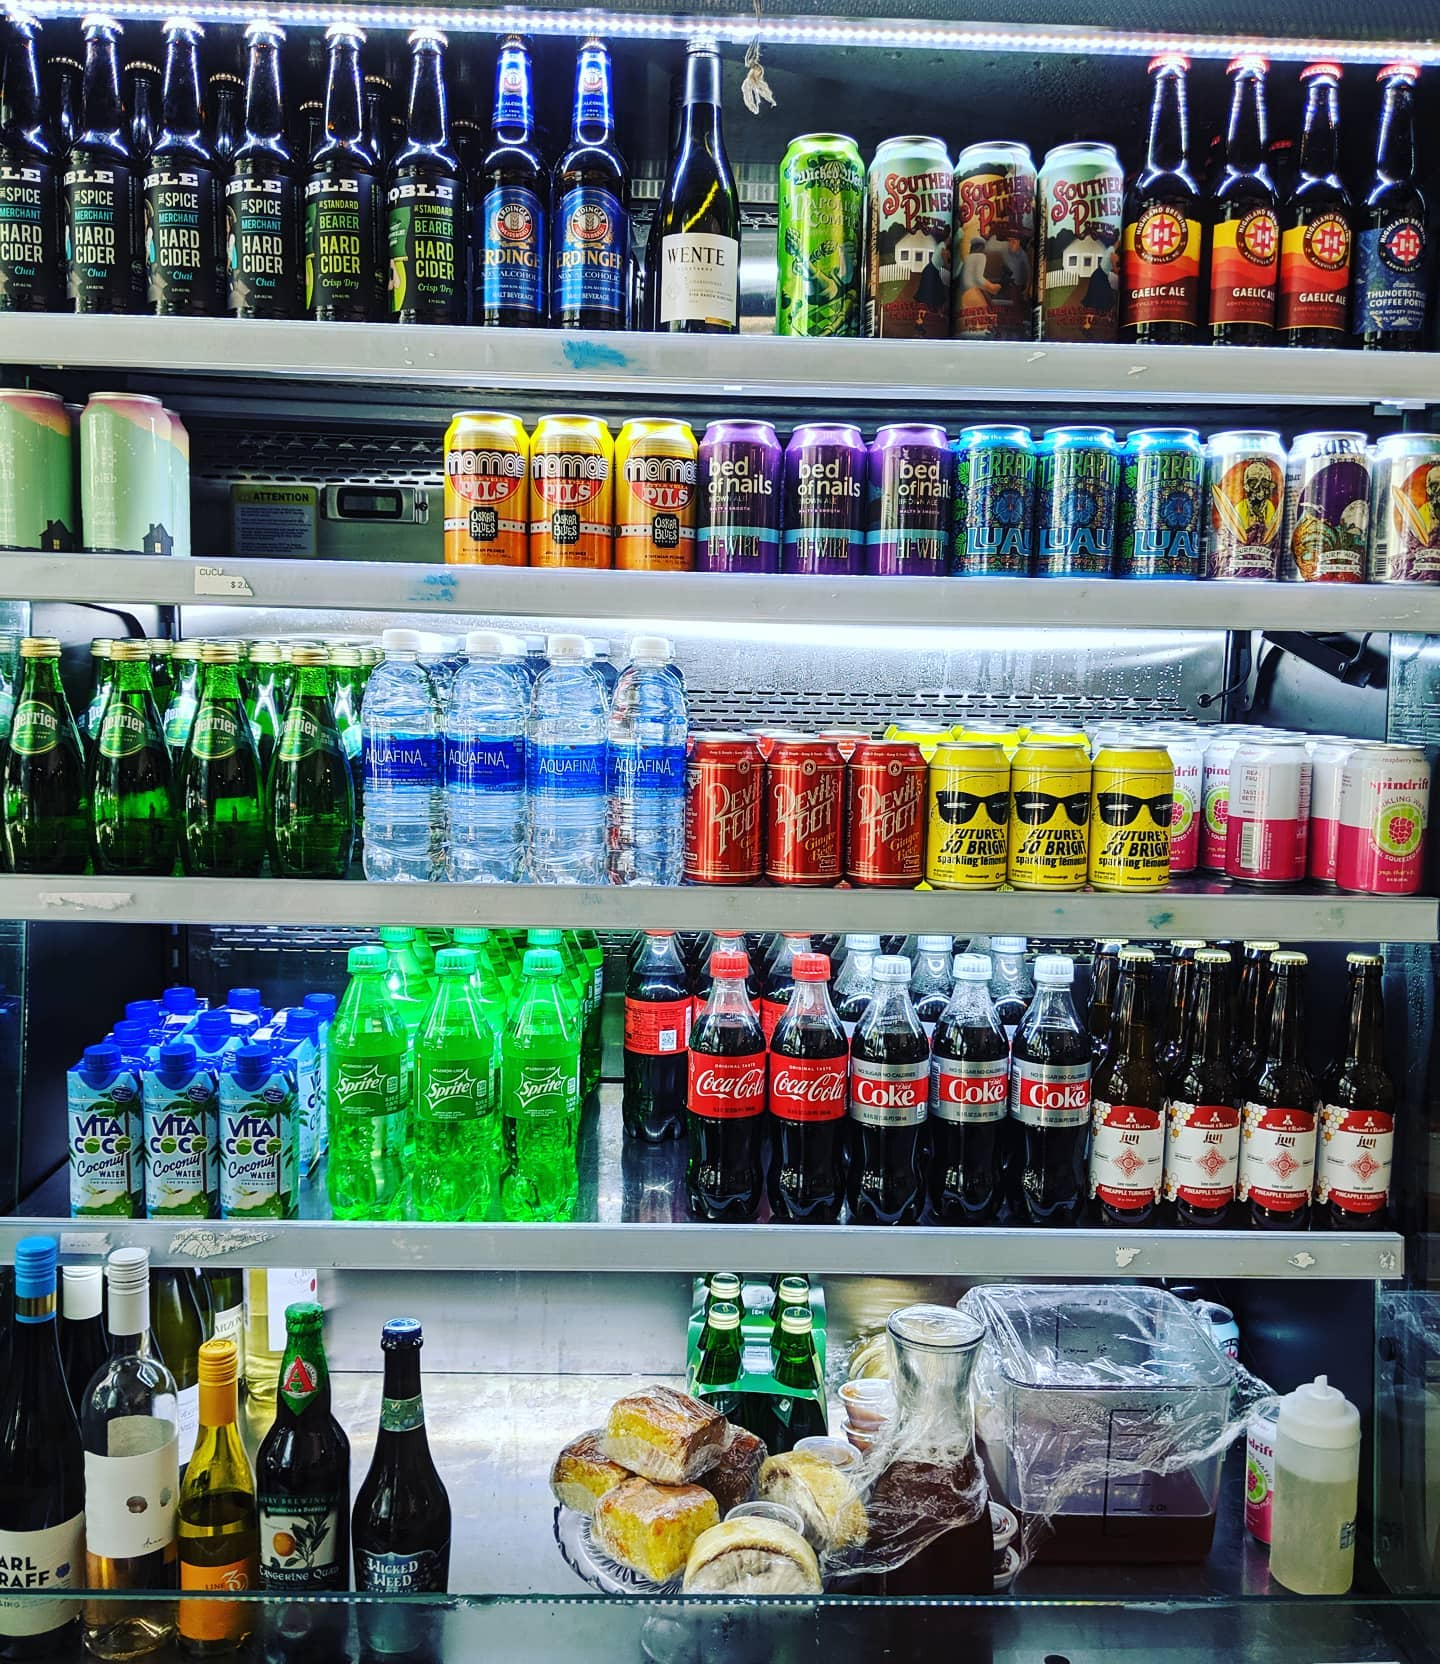aquafina: (362, 746, 423, 768), (446, 747, 506, 770), (612, 753, 672, 775), (538, 756, 598, 775)
bedofnailsbeer: (796, 456, 861, 501), (895, 456, 953, 505), (709, 453, 771, 495)
cocacola: (692, 1068, 767, 1104), (772, 1068, 844, 1104)
devilfootbeer: (856, 775, 925, 857), (774, 775, 842, 856), (707, 777, 762, 855)
dietcoke: (856, 1078, 918, 1108), (1026, 1081, 1088, 1111), (946, 1075, 1004, 1105)
erdingerbeer: (571, 202, 610, 243), (494, 201, 532, 241)
futuresobright: (1017, 824, 1088, 859), (938, 824, 1009, 857), (1098, 826, 1168, 857)
highlandbrewing: (1134, 205, 1188, 266), (1378, 215, 1427, 273), (1303, 214, 1349, 275), (1233, 209, 1277, 267)
line39wine: (202, 1569, 248, 1592)
mamalittleyellapilsbeer: (444, 449, 525, 480), (624, 456, 696, 485), (530, 456, 610, 483)
perrierbeer: (96, 709, 149, 740), (184, 715, 238, 741), (273, 715, 318, 746), (8, 707, 55, 736)
southernpines: (883, 168, 953, 235), (960, 174, 1037, 233), (1050, 177, 1125, 235)
spindrift: (1366, 774, 1432, 792)
sprite: (334, 1071, 381, 1097), (424, 1078, 470, 1104), (519, 1077, 562, 1099)
tangerinequad: (262, 1565, 339, 1581)
terrarpinbeer: (1134, 447, 1205, 490), (1041, 453, 1119, 483), (968, 450, 1035, 483)
vitacoco: (223, 1109, 283, 1160), (149, 1112, 208, 1155), (74, 1114, 130, 1155)
wentevineyardsbeer: (666, 243, 724, 267)
wickedweedbeer: (789, 163, 866, 192), (364, 1552, 420, 1588)
